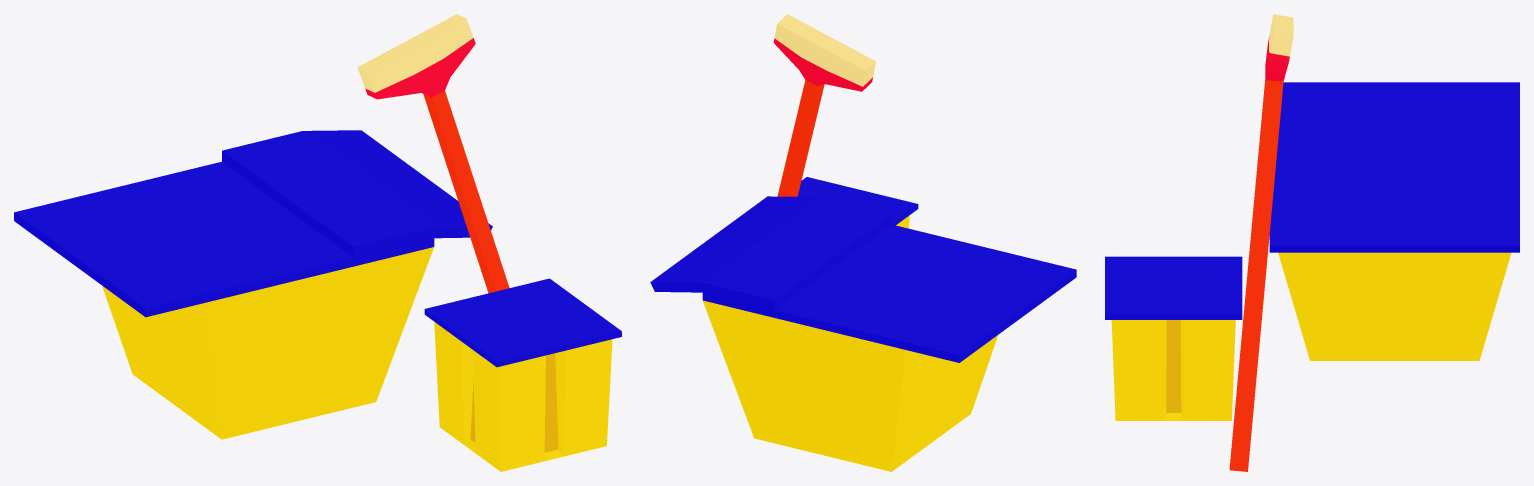
Rendered from SetLimpieza.glb.
The picture shows the model from 3 angles, left to right: view 1: azimuth 30°, elevation 25°; view 2: azimuth 150°, elevation 25°; view 3: azimuth 270°, elevation 25°; orthographic projection. The views are drawn at different scales.
Visible parts, largest first — view 1: SetLimpieza; view 2: SetLimpieza; view 3: SetLimpieza.
Part boxes in pixels (x1,y1,x2,y2): SetLimpieza: [14, 14, 621, 471]; SetLimpieza: [650, 14, 1076, 471]; SetLimpieza: [1105, 14, 1519, 471].
Size of the model in its own units: 5.11 by 5.34 by 4.89.
